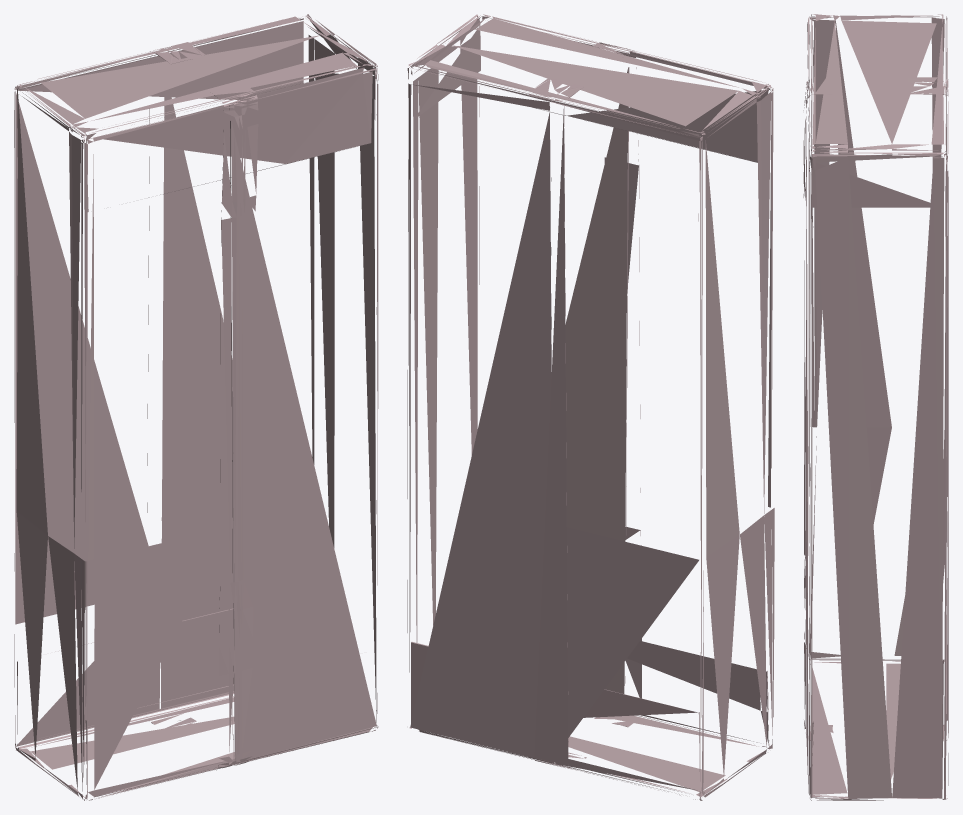
File: box_flat_brown_b10.glb
The picture shows the model from 3 angles, left to right: view 1: azimuth 30°, elevation 25°; view 2: azimuth 150°, elevation 25°; view 3: azimuth 270°, elevation 25°; orthographic projection. The views are drawn at different scales.
Parts seen in each view (by area): view 1: geometry_0; view 2: geometry_0; view 3: geometry_0.
Part boxes in pixels (<box>): geometry_0: <box>14,14,378,800</box>; geometry_0: <box>407,14,774,800</box>; geometry_0: <box>803,14,948,800</box>.
Bounding box in the file's own units: 0.2227 × 0.48 × 0.097.
